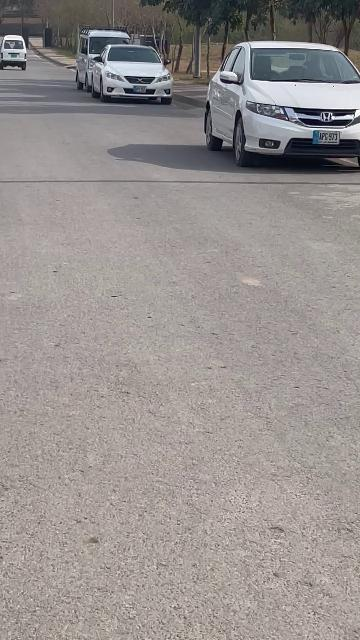plate: (313, 130, 340, 145)
